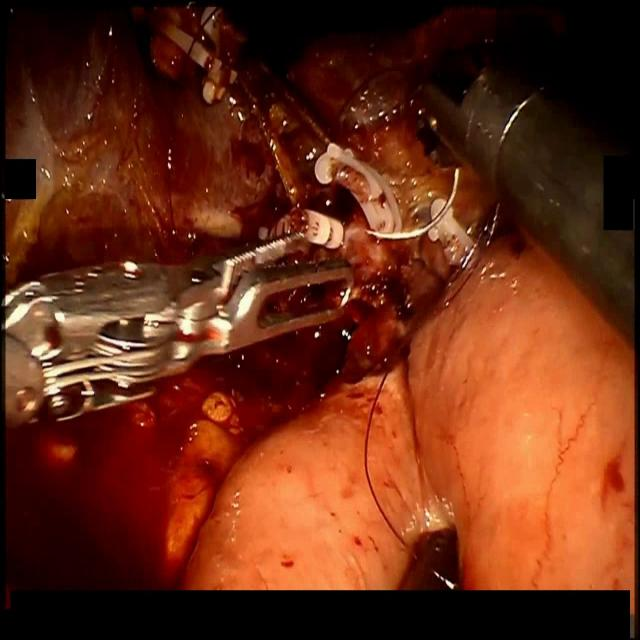surgical-area: (4, 0, 639, 593)
surgical-tool: (410, 48, 640, 358), (4, 234, 354, 436)
